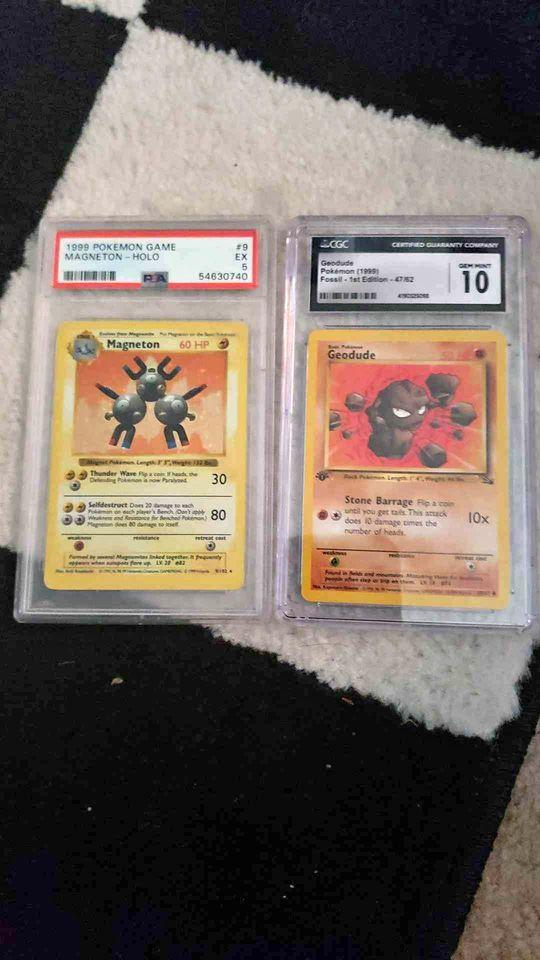card: (300, 329, 509, 610), (43, 320, 250, 592)
